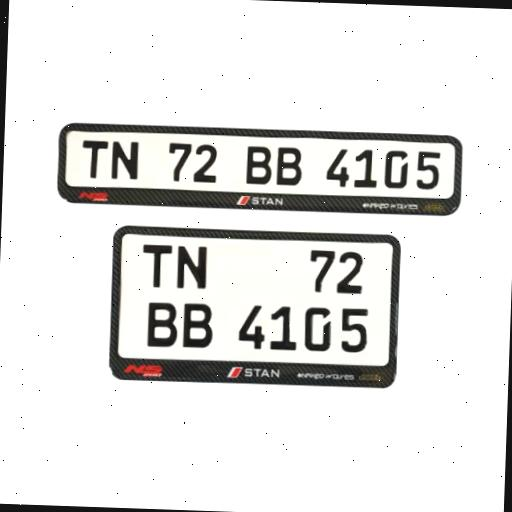number plate: (114, 228, 398, 376), (62, 128, 460, 210)
